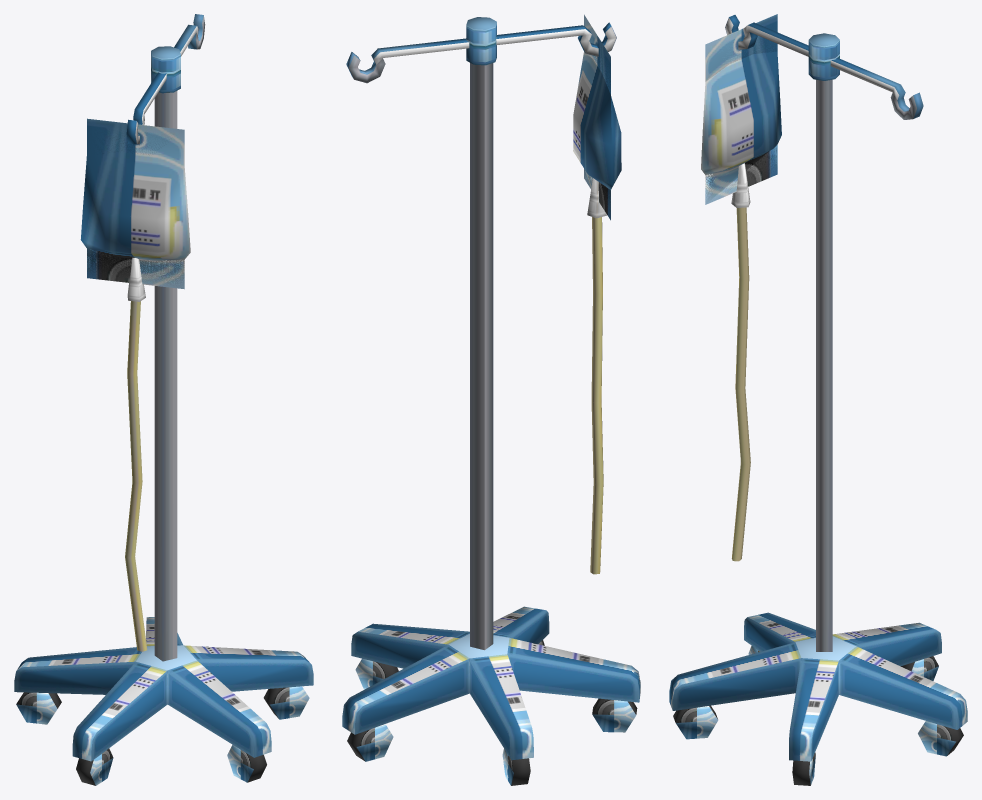
The model's file is int_hsp_drops.dae.
3 views of the same model, side by side, from view 1: azimuth 30°, elevation 25°; view 2: azimuth 150°, elevation 25°; view 3: azimuth 270°, elevation 25° (orthographic). The views are drawn at different scales.
Parts seen in each view (by area): view 1: int_hsp_drops; view 2: int_hsp_drops; view 3: int_hsp_drops.
Boxes of the visible parts, x1,y1,x2,y2 form: int_hsp_drops: [14, 14, 313, 785]; int_hsp_drops: [342, 14, 640, 785]; int_hsp_drops: [669, 14, 967, 785].
Bounding box in the file's own units: 22.09 × 56.1 × 22.09.
1 material, 1 textured.
